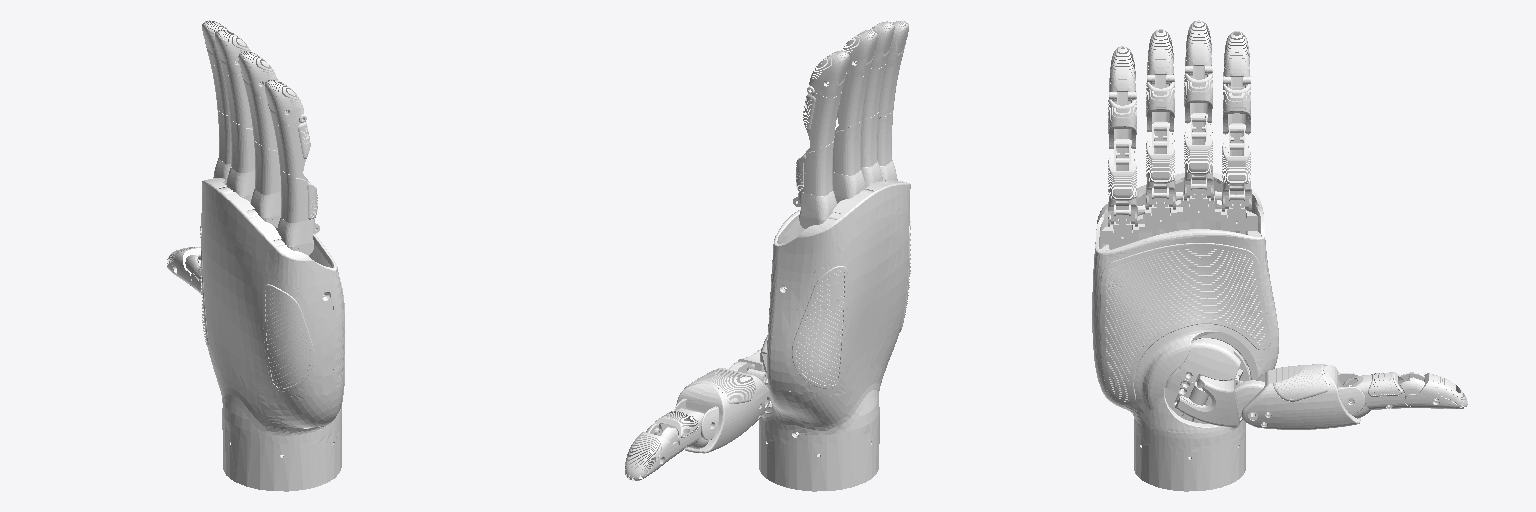
--- Facts derived from the render (not from the file) ---
Views: 3 orthographic renders of the robot side by side, from view 1: azimuth 30°, elevation 25°; view 2: azimuth 150°, elevation 25°; view 3: azimuth 270°, elevation 25°.
Model linker_l20_right_v9.0_urdf with 22 links and 21 joints (21 revolute), rooted at base_link, posed every joint at zero.
Links seen in each view (by area): view 1: base_link, pinky_proximal, ring_proximal, middle_proximal, pinky_middle, pinky_distal, ring_distal, ring_middle, middle_distal, middle_middle, thumb_distal, index_proximal (+2 smaller); view 2: base_link, thumb_metacarpals, index_proximal, middle_proximal, thumb_distal, index_middle, index_distal, thumb_proximal, middle_middle, ring_proximal, middle_distal, pinky_proximal (+4 smaller); view 3: base_link, thumb_metacarpals, thumb_metacarpals_base1, index_proximal, ring_proximal, middle_proximal, pinky_proximal, thumb_metacarpals_base2, thumb_distal, thumb_proximal, middle_middle, pinky_middle (+6 smaller).
Boxes of the visible links, bbox=[...] form: base_link: bbox=[200, 178, 344, 491]; pinky_proximal: bbox=[277, 169, 319, 255]; ring_proximal: bbox=[251, 141, 280, 227]; middle_proximal: bbox=[226, 119, 254, 203]; pinky_middle: bbox=[273, 114, 310, 177]; pinky_distal: bbox=[264, 80, 303, 125]; ring_distal: bbox=[238, 51, 277, 97]; ring_middle: bbox=[246, 92, 276, 149]; middle_distal: bbox=[215, 30, 250, 75]; middle_middle: bbox=[223, 72, 251, 127]; thumb_distal: bbox=[167, 247, 200, 285]; index_proximal: bbox=[213, 109, 231, 184]; base_link: bbox=[759, 180, 910, 491]; thumb_metacarpals: bbox=[674, 361, 770, 453]; index_proximal: bbox=[793, 141, 836, 228]; middle_proximal: bbox=[833, 121, 865, 203]; thumb_distal: bbox=[625, 424, 679, 480]; index_middle: bbox=[803, 86, 841, 150]; index_distal: bbox=[809, 50, 849, 97]; thumb_proximal: bbox=[654, 408, 708, 456]; middle_middle: bbox=[837, 72, 869, 129]; ring_proximal: bbox=[861, 112, 882, 187]; middle_distal: bbox=[842, 30, 877, 76]; pinky_proximal: bbox=[877, 110, 897, 180]; base_link: bbox=[1092, 173, 1278, 491]; thumb_metacarpals: bbox=[1235, 364, 1364, 429]; thumb_metacarpals_base1: bbox=[1165, 338, 1249, 423]; index_proximal: bbox=[1222, 123, 1251, 211]; ring_proximal: bbox=[1146, 121, 1175, 209]; middle_proximal: bbox=[1184, 113, 1213, 200]; pinky_proximal: bbox=[1108, 139, 1137, 226]; thumb_metacarpals_base2: bbox=[1175, 376, 1242, 426]; thumb_distal: bbox=[1400, 372, 1467, 408]; thumb_proximal: bbox=[1343, 372, 1411, 418]; middle_middle: bbox=[1184, 66, 1212, 122]; pinky_middle: bbox=[1108, 92, 1136, 148].
Size in the robot's own frame: 0.0766 by 0.2132 by 0.2634 metres.
Meshes: 22 distinct files referenced, 22 mesh visuals loaded (22 binary STL).

URDF robot description (linker_l20_right_v9.0_urdf):
<?xml version="1.0" encoding="utf-8"?>
<!-- This URDF was automatically created by SolidWorks to URDF Exporter! Originally created by Stephen Brawner ([email redacted]) 
     Commit Version: 1.6.0-4-g7f85cfe  Build Version: 1.6.7995.38578
     For more information, please see http://wiki.ros.org/sw_urdf_exporter -->
<robot
  name="linker_l20_right_v9.0_urdf">
  <link
    name="base_link">
    <inertial>
      <origin
        xyz="-0.011620261826289 -0.00274408052916145 0.0887470796714767"
        rpy="0 0 0" />
      <mass
        value="0.11937688599385" />
      <inertia
        ixx="0.000281631012191348"
        ixy="-8.32650755459043E-07"
        ixz="1.21226290989181E-05"
        iyy="0.000193306068615882"
        iyz="-4.50732810047053E-07"
        izz="0.000103641849373219" />
    </inertial>
    <visual>
      <origin
        xyz="0 0 0"
        rpy="0 0 0" />
      <geometry>
        <mesh
          filename="meshes/base_link.STL" />
      </geometry>
      <material
        name="">
        <color
          rgba="1 1 1 1" />
      </material>
    </visual>
    <collision>
      <origin
        xyz="0 0 0"
        rpy="0 0 0" />
      <geometry>
        <mesh
          filename="meshes/base_link.STL" />
      </geometry>
    </collision>
  </link>
  <link
    name="pinky_metacarpals">
    <inertial>
      <origin
        xyz="0.0111783602812616 9.71805658167568E-09 0.00220159774985697"
        rpy="0 0 0" />
      <mass
        value="0.000876740424974171" />
      <inertia
        ixx="3.50685796605318E-08"
        ixy="2.37969995283725E-13"
        ixz="-5.24778032378607E-09"
        iyy="2.68809612615393E-08"
        iyz="4.22813805139068E-14"
        izz="4.23561171499408E-08" />
    </inertial>
    <visual>
      <origin
        xyz="0 0 0"
        rpy="0 0 0" />
      <geometry>
        <mesh
          filename="meshes/pinky_metacarpals.STL" />
      </geometry>
      <material
        name="">
        <color
          rgba="1 1 1 1" />
      </material>
    </visual>
    <collision>
      <origin
        xyz="0 0 0"
        rpy="0 0 0" />
      <geometry>
        <mesh
          filename="meshes/pinky_metacarpals.STL" />
      </geometry>
    </collision>
  </link>
  <joint
    name="pinky_mcp_roll"
    type="revolute">
    <origin
      xyz="-0.028575599600215 -0.0381024421136991 0.150312739930038"
      rpy="0 0 0" />
    <parent
      link="base_link" />
    <child
      link="pinky_metacarpals" />
    <axis
      xyz="0.999999999998204 0 0" />
    <limit
      lower="-0.17"
      upper="0.17"
      effort="1"
      velocity="1" />
  </joint>
  <link
    name="pinky_proximal">
    <inertial>
      <origin
        xyz="-0.00112895839994493 -3.79145600554187E-06 0.0228398814721952"
        rpy="0 0 0" />
      <mass
        value="0.00451760212331234" />
      <inertia
        ixx="6.69993733698809E-07"
        ixy="-1.01449716218779E-11"
        ixz="2.60703311997585E-08"
        iyy="6.78893091787921E-07"
        iyz="-1.54607175246649E-10"
        izz="1.37491573213612E-07" />
    </inertial>
    <visual>
      <origin
        xyz="0 0 0"
        rpy="0 0 0" />
      <geometry>
        <mesh
          filename="meshes/pinky_proximal.STL" />
      </geometry>
      <material
        name="">
        <color
          rgba="1 1 1 1" />
      </material>
    </visual>
    <collision>
      <origin
        xyz="0 0 0"
        rpy="0 0 0" />
      <geometry>
        <mesh
          filename="meshes/pinky_proximal.STL" />
      </geometry>
    </collision>
  </link>
  <joint
    name="pinky_mcp_pitch"
    type="revolute">
    <origin
      xyz="0.0166748095648401 0 0"
      rpy="0 0 0" />
    <parent
      link="pinky_metacarpals" />
    <child
      link="pinky_proximal" />
    <axis
      xyz="0 1 0" />
    <limit
      lower="0"
      upper="1.4"
      effort="1"
      velocity="1" />
  </joint>
  <link
    name="pinky_middle">
    <inertial>
      <origin
        xyz="-0.000211169706509542 -2.59533084201458E-06 0.0168377462832341"
        rpy="0 0 0" />
      <mass
        value="0.00240726454050251" />
      <inertia
        ixx="2.37166762597919E-07"
        ixy="-8.40854168436704E-13"
        ixz="1.39313946202203E-08"
        iyy="1.83336939185043E-07"
        iyz="6.98408572116134E-13"
        izz="9.82233286360317E-08" />
    </inertial>
    <visual>
      <origin
        xyz="0 0 0"
        rpy="0 0 0" />
      <geometry>
        <mesh
          filename="meshes/pinky_middle.STL" />
      </geometry>
      <material
        name="">
        <color
          rgba="1 1 1 1" />
      </material>
    </visual>
    <collision>
      <origin
        xyz="0 0 0"
        rpy="0 0 0" />
      <geometry>
        <mesh
          filename="meshes/pinky_middle.STL" />
      </geometry>
    </collision>
  </link>
  <joint
    name="pinky_pip"
    type="revolute">
    <origin
      xyz="-0.00419455244191127 1.32099958100595E-05 0.0448194355633776"
      rpy="0 0 0" />
    <parent
      link="pinky_proximal" />
    <child
      link="pinky_middle" />
    <axis
      xyz="0 1 0" />
    <limit
      lower="0"
      upper="1.57"
      effort="1"
      velocity="1" />
  </joint>
  <link
    name="pinky_distal">
    <inertial>
      <origin
        xyz="-0.00807029340145454 -1.93501202306046E-05 0.00803089258129761"
        rpy="0 0 0" />
      <mass
        value="0.00337425966640625" />
      <inertia
        ixx="1.62072520517533E-07"
        ixy="1.01331520983936E-10"
        ixz="5.9624392404289E-08"
        iyy="1.79093091317115E-07"
        iyz="-1.04733372031767E-10"
        izz="1.32918893464252E-07" />
    </inertial>
    <visual>
      <origin
        xyz="0 0 0"
        rpy="0 0 0" />
      <geometry>
        <mesh
          filename="meshes/pinky_distal.STL" />
      </geometry>
      <material
        name="">
        <color
          rgba="1 1 1 1" />
      </material>
    </visual>
    <collision>
      <origin
        xyz="0 0 0"
        rpy="0 0 0" />
      <geometry>
        <mesh
          filename="meshes/pinky_distal.STL" />
      </geometry>
    </collision>
  </link>
  <joint
    name="pinky_dip"
    type="revolute">
    <origin
      xyz="0.00275561956448663 0 0.0317024252339038"
      rpy="0 0 0" />
    <parent
      link="pinky_middle" />
    <child
      link="pinky_distal" />
    <axis
      xyz="0 1 0" />
    <limit
      lower="0"
      upper="1.4"
      effort="1"
      velocity="1" />
    <mimic
      joint="pinky_pip"
      multiplier="0.8917"
      offset="0" />
  </joint>
  <link
    name="ring_metacarpals">
    <inertial>
      <origin
        xyz="0.0111783602812615 -5.44586388928625E-07 0.00220163628642245"
        rpy="0 0 0" />
      <mass
        value="0.000876740424974176" />
      <inertia
        ixx="3.5068579660532E-08"
        ixy="2.37969995276923E-13"
        ixz="-5.24778032378599E-09"
        iyy="2.68809612615393E-08"
        iyz="4.22813803938397E-14"
        izz="4.23561171499408E-08" />
    </inertial>
    <visual>
      <origin
        xyz="0 0 0"
        rpy="0 0 0" />
      <geometry>
        <mesh
          filename="meshes/ring_metacarpals.STL" />
      </geometry>
      <material
        name="">
        <color
          rgba="1 1 1 1" />
      </material>
    </visual>
    <collision>
      <origin
        xyz="0 0 0"
        rpy="0 0 0" />
      <geometry>
        <mesh
          filename="meshes/ring_metacarpals.STL" />
      </geometry>
    </collision>
  </link>
  <joint
    name="ring_mcp_roll"
    type="revolute">
    <origin
      xyz="-0.0321993698689908 -0.0165018864843229 0.159311421874683"
      rpy="0 0 0" />
    <parent
      link="base_link" />
    <child
      link="ring_metacarpals" />
    <axis
      xyz="0.999999999998204 0 0" />
    <limit
      lower="-0.17"
      upper="0.17"
      effort="1"
      velocity="1" />
  </joint>
  <link
    name="ring_proximal">
    <inertial>
      <origin
        xyz="-0.00955921558507311 -1.70016755791369E-05 0.0148398984163987"
        rpy="0 0 0" />
      <mass
        value="0.00451760195794046" />
      <inertia
        ixx="6.69993722821465E-07"
        ixy="-1.01474386915083E-11"
        ixz="2.60703333666604E-08"
        iyy="6.78893086540266E-07"
        iyz="-1.54612724483144E-10"
        izz="1.37491565753842E-07" />
    </inertial>
    <visual>
      <origin
        xyz="0 0 0"
        rpy="0 0 0" />
      <geometry>
        <mesh
          filename="meshes/ring_proximal.STL" />
      </geometry>
      <material
        name="">
        <color
          rgba="1 1 1 1" />
      </material>
    </visual>
    <collision>
      <origin
        xyz="0 0 0"
        rpy="0 0 0" />
      <geometry>
        <mesh
          filename="meshes/ring_proximal.STL" />
      </geometry>
    </collision>
  </link>
  <joint
    name="ring_mcp_pitch"
    type="revolute">
    <origin
      xyz="0.0251050665600563 1.26716622367851E-05 0.00800002169746956"
      rpy="0 0 0" />
    <parent
      link="ring_metacarpals" />
    <child
      link="ring_proximal" />
    <axis
      xyz="0 1 0" />
    <limit
      lower="0"
      upper="1.4"
      effort="1"
      velocity="1" />
  </joint>
  <link
    name="ring_middle">
    <inertial>
      <origin
        xyz="-0.000211169680034644 -2.59524552165269E-06 0.0168377464520879"
        rpy="0 0 0" />
      <mass
        value="0.00240726457456344" />
      <inertia
        ixx="2.37166764775183E-07"
        ixy="-8.42216406451178E-13"
        ixz="1.3931392891153E-08"
        iyy="1.83336942110529E-07"
        iyz="6.95953123215741E-13"
        izz="9.82233292198863E-08" />
    </inertial>
    <visual>
      <origin
        xyz="0 0 0"
        rpy="0 0 0" />
      <geometry>
        <mesh
          filename="meshes/ring_middle.STL" />
      </geometry>
      <material
        name="">
        <color
          rgba="1 1 1 1" />
      </material>
    </visual>
    <collision>
      <origin
        xyz="0 0 0"
        rpy="0 0 0" />
      <geometry>
        <mesh
          filename="meshes/ring_middle.STL" />
      </geometry>
    </collision>
  </link>
  <joint
    name="ring_pip"
    type="revolute">
    <origin
      xyz="-0.0126248094619703 0 0.0368194524036704"
      rpy="0 0 0" />
    <parent
      link="ring_proximal" />
    <child
      link="ring_middle" />
    <axis
      xyz="0 1 0" />
    <limit
      lower="0"
      upper="1.57"
      effort="1"
      velocity="1" />
  </joint>
  <link
    name="ring_distal">
    <inertial>
      <origin
        xyz="-0.00807029340156035 -1.93501210593028E-05 0.00803089181817565"
        rpy="0 0 0" />
      <mass
        value="0.00337425966600315" />
      <inertia
        ixx="1.62072520497108E-07"
        ixy="1.01331470012741E-10"
        ixz="5.96243924070343E-08"
        iyy="1.79093091237455E-07"
        iyz="-1.04733393393394E-10"
        izz="1.32918893476288E-07" />
    </inertial>
    <visual>
      <origin
        xyz="0 0 0"
        rpy="0 0 0" />
      <geometry>
        <mesh
          filename="meshes/ring_distal.STL" />
      </geometry>
      <material
        name="">
        <color
          rgba="1 1 1 1" />
      </material>
    </visual>
    <collision>
      <origin
        xyz="0 0 0"
        rpy="0 0 0" />
      <geometry>
        <mesh
          filename="meshes/ring_distal.STL" />
      </geometry>
    </collision>
  </link>
  <joint
    name="ring_dip"
    type="revolute">
    <origin
      xyz="0.00275561956405355 0 0.0317024252327154"
      rpy="0 0 0" />
    <parent
      link="ring_middle" />
    <child
      link="ring_distal" />
    <axis
      xyz="0 1 0" />
    <limit
      lower="0"
      upper="1.4"
      effort="1"
      velocity="1" />
    <mimic
      joint="ring_pip"
      multiplier="0.8917"
      offset="0" />
  </joint>
  <link
    name="middle_metacarpals">
    <inertial>
      <origin
        xyz="0.0111783602812616 -5.44586388762092E-07 0.0022016362864224"
        rpy="0 0 0" />
      <mass
        value="0.000876740424974166" />
      <inertia
        ixx="3.50685796605316E-08"
        ixy="2.37969995601852E-13"
        ixz="-5.24778032378604E-09"
        iyy="2.68809612615391E-08"
        iyz="4.22813799331105E-14"
        izz="4.23561171499406E-08" />
    </inertial>
    <visual>
      <origin
        xyz="0 0 0"
        rpy="0 0 0" />
      <geometry>
        <mesh
          filename="meshes/middle_metacarpals.STL" />
      </geometry>
      <material
        name="">
        <color
          rgba="1 1 1 1" />
      </material>
    </visual>
    <collision>
      <origin
        xyz="0 0 0"
        rpy="0 0 0" />
      <geometry>
        <mesh
          filename="meshes/middle_metacarpals.STL" />
      </geometry>
    </collision>
  </link>
  <joint
    name="middle_mcp_roll"
    type="revolute">
    <origin
      xyz="-0.0345042006792679 0.00509811417717426 0.163804307612682"
      rpy="0 0 0" />
    <parent
      link="base_link" />
    <child
      link="middle_metacarpals" />
    <axis
      xyz="0.999999999998204 0 0" />
    <limit
      lower="-0.17"
      upper="0.17"
      effort="1"
      velocity="1" />
  </joint>
  <link
    name="middle_proximal">
    <inertial>
      <origin
        xyz="-0.0095592154289316 -1.70014495338155E-05 0.0148398983134099"
        rpy="0 0 0" />
      <mass
        value="0.00451760211910452" />
      <inertia
        ixx="6.69993733596981E-07"
        ixy="-1.01450009530961E-11"
        ixz="2.60703311569988E-08"
        iyy="6.78893091681914E-07"
        iyz="-1.54607004511646E-10"
        izz="1.37491573176307E-07" />
    </inertial>
    <visual>
      <origin
        xyz="0 0 0"
        rpy="0 0 0" />
      <geometry>
        <mesh
          filename="meshes/middle_proximal.STL" />
      </geometry>
      <material
        name="">
        <color
          rgba="1 1 1 1" />
      </material>
    </visual>
    <collision>
      <origin
        xyz="0 0 0"
        rpy="0 0 0" />
      <geometry>
        <mesh
          filename="meshes/middle_proximal.STL" />
      </geometry>
    </collision>
  </link>
  <joint
    name="middle_mcp_pitch"
    type="revolute">
    <origin
      xyz="0.0251050665601614 1.26716622368406E-05 0.00800002169696733"
      rpy="0 0 0" />
    <parent
      link="middle_metacarpals" />
    <child
      link="middle_proximal" />
    <axis
      xyz="0 1 0" />
    <limit
      lower="0"
      upper="1.4"
      effort="1"
      velocity="1" />
  </joint>
  <link
    name="middle_middle">
    <inertial>
      <origin
        xyz="-0.000211169788266033 -2.59530434057464E-06 0.0168377462566504"
        rpy="0 0 0" />
      <mass
        value="0.00240726449346529" />
      <inertia
        ixx="2.37166758883316E-07"
        ixy="-8.41669264093796E-13"
        ixz="1.39313950743123E-08"
        iyy="1.83336936162719E-07"
        iyz="6.97202665239409E-13"
        izz="9.82233268582599E-08" />
    </inertial>
    <visual>
      <origin
        xyz="0 0 0"
        rpy="0 0 0" />
      <geometry>
        <mesh
          filename="meshes/middle_middle.STL" />
      </geometry>
      <material
        name="">
        <color
          rgba="1 1 1 1" />
      </material>
    </visual>
    <collision>
      <origin
        xyz="0 0 0"
        rpy="0 0 0" />
      <geometry>
        <mesh
          filename="meshes/middle_middle.STL" />
      </geometry>
    </collision>
  </link>
  <joint
    name="middle_pip"
    type="revolute">
    <origin
      xyz="-0.0126248094622216 0 0.0368194524061594"
      rpy="0 0 0" />
    <parent
      link="middle_proximal" />
    <child
      link="middle_middle" />
    <axis
      xyz="0 1 0" />
    <limit
      lower="0"
      upper="1.57"
      effort="1"
      velocity="1" />
  </joint>
  <link
    name="middle_distal">
    <inertial>
      <origin
        xyz="-0.00807029340000556 -1.93501205603408E-05 0.00803089258473687"
        rpy="0 0 0" />
      <mass
        value="0.00337425966615046" />
      <inertia
        ixx="1.62072520444378E-07"
        ixy="1.01331478760051E-10"
        ixz="5.96243924035914E-08"
        iyy="1.79093091275449E-07"
        iyz="-1.04733397727201E-10"
        izz="1.32918893459179E-07" />
    </inertial>
    <visual>
      <origin
        xyz="0 0 0"
        rpy="0 0 0" />
      <geometry>
        <mesh
          filename="meshes/middle_distal.STL" />
      </geometry>
      <material
        name="">
        <color
          rgba="1 1 1 1" />
      </material>
    </visual>
    <collision>
      <origin
        xyz="0 0 0"
        rpy="0 0 0" />
      <geometry>
        <mesh
          filename="meshes/middle_distal.STL" />
      </geometry>
    </collision>
  </link>
  <joint
    name="middle_dip"
    type="revolute">
    <origin
      xyz="0.00275561956368908 0 0.031702425228504"
      rpy="0 0 0" />
    <parent
      link="middle_middle" />
    <child
      link="middle_distal" />
    <axis
      xyz="0 1 0" />
    <limit
      lower="0"
      upper="1.4"
      effort="1"
      velocity="1" />
    <mimic
      joint="middle_pip"
      multiplier="0.8917"
      offset="0" />
  </joint>
  <link
    name="index_metacarpals">
    <inertial>
      <origin
        xyz="0.0111783602812616 -5.44586388873114E-07 0.00220163628642246"
        rpy="0 0 0" />
      <mass
        value="0.000876740424974179" />
      <inertia
        ixx="3.50685796605321E-08"
        ixy="2.37969995333639E-13"
        ixz="-5.24778032378605E-09"
        iyy="2.68809612615395E-08"
        iyz="4.22813804036855E-14"
        izz="4.2356117149941E-08" />
    </inertial>
    <visual>
      <origin
        xyz="0 0 0"
        rpy="0 0 0" />
      <geometry>
        <mesh
          filename="meshes/index_metacarpals.STL" />
      </geometry>
      <material
        name="">
        <color
          rgba="1 1 1 1" />
      </material>
    </visual>
    <collision>
      <origin
        xyz="0 0 0"
        rpy="0 0 0" />
      <geometry>
        <mesh
          filename="meshes/index_metacarpals.STL" />
      </geometry>
    </collision>
  </link>
  <joint
    name="index_mcp_roll"
    type="revolute">
    <origin
      xyz="-0.0297703583048348 0.026698113515616 0.159311418025823"
      rpy="0 0 0" />
    <parent
      link="base_link" />
    <child
      link="index_metacarpals" />
    <axis
      xyz="0.999999999998204 0 0" />
    <limit
      lower="-0.17"
      upper="0.17"
      effort="1"
      velocity="1" />
  </joint>
  <link
    name="index_proximal">
    <inertial>
      <origin
        xyz="-0.00112895840999541 -3.79145382717327E-06 0.0228398814738125"
        rpy="0 0 0" />
      <mass
        value="0.00451760211825835" />
      <inertia
        ixx="6.69993733567589E-07"
        ixy="-1.01449915953169E-11"
        ixz="2.6070331151262E-08"
        iyy="6.7889309165604E-07"
        iyz="-1.54607144938343E-10"
        izz="1.37491573165547E-07" />
    </inertial>
    <visual>
      <origin
        xyz="0 0 0"
        rpy="0 0 0" />
      <geometry>
        <mesh
          filename="meshes/index_proximal.STL" />
      </geometry>
      <material
        name="">
        <color
          rgba="1 1 1 1" />
      </material>
    </visual>
    <collision>
      <origin
        xyz="0 0 0"
        rpy="0 0 0" />
      <geometry>
        <mesh
          filename="meshes/index_proximal.STL" />
      </geometry>
    </collision>
  </link>
  <joint
    name="index_mcp_pitch"
    type="revolute">
    <origin
      xyz="0.0166748095646496 0 0"
      rpy="0 0 0" />
    <parent
      link="index_metacarpals" />
    <child
      link="index_proximal" />
    <axis
      xyz="0 1 0" />
    <limit
      lower="0"
      upper="1.4"
      effort="1"
      velocity="1" />
  </joint>
  <link
    name="index_middle">
    <inertial>
      <origin
        xyz="-0.000211169838065489 -2.5954094765579E-06 0.0168377460160872"
        rpy="0 0 0" />
      <mass
        value="0.00240726447718958" />
      <inertia
        ixx="2.37166756819848E-07"
        ixy="-8.40334954033228E-13"
        ixz="1.39313968245868E-08"
        iyy="1.8333693296862E-07"
        iyz="6.99644799463844E-13"
        izz="9.82233270278881E-08" />
    </inertial>
    <visual>
      <origin
        xyz="0 0 0"
        rpy="0 0 0" />
      <geometry>
        <mesh
          filename="meshes/index_middle.STL" />
      </geometry>
      <material
        name="">
        <color
          rgba="1 1 1 1" />
      </material>
    </visual>
    <collision>
      <origin
        xyz="0 0 0"
        rpy="0 0 0" />
      <geometry>
        <mesh
          filename="meshes/index_middle.STL" />
      </geometry>
    </collision>
  </link>
  <joint
    name="index_pip"
    type="revolute">
    <origin
      xyz="-0.00419455239160021 1.32099983796707E-05 0.0448194355727413"
      rpy="0 0 0" />
    <parent
      link="index_proximal" />
    <child
      link="index_middle" />
    <axis
      xyz="0 1 0" />
    <limit
      lower="0"
      upper="1.57"
      effort="1"
      velocity="1" />
  </joint>
  <link
    name="index_distal">
    <inertial>
      <origin
        xyz="-0.00807029340029854 -1.93501205141555E-05 0.00803089258454236"
        rpy="0 0 0" />
      <mass
        value="0.00337425966618635" />
      <inertia
        ixx="1.6207252045105E-07"
        ixy="1.01331477160975E-10"
        ixz="5.96243924026828E-08"
        iyy="1.79093091271022E-07"
        iyz="-1.04733396885457E-10"
        izz="1.32918893461444E-07" />
    </inertial>
    <visual>
      <origin
        xyz="0 0 0"
        rpy="0 0 0" />
      <geometry>
        <mesh
          filename="meshes/index_distal.STL" />
      </geometry>
      <material
        name="">
        <color
          rgba="1 1 1 1" />
      </material>
    </visual>
    <collision>
      <origin
        xyz="0 0 0"
        rpy="0 0 0" />
      <geometry>
        <mesh
          filename="meshes/index_distal.STL" />
      </geometry>
    </collision>
  </link>
  <joint
    name="index_dip"
    type="revolute">
    <origin
      xyz="0.00275561951363186 0 0.0317024252223218"
      rpy="0 0 0" />
    <parent
      link="index_middle" />
    <child
      link="index_distal" />
    <axis
      xyz="0 1 0" />
    <limit
      lower="0"
      upper="1.4"
      effort="1"
      velocity="1" />
    <mimic
      joint="index_pip"
      multiplier="0.8917"
      offset="0" />
  </joint>
  <link
    name="thumb_metacarpals_base1">
    <inertial>
      <origin
        xyz="0.00225238137571548 0.0106281730889677 0.00386563507860038"
        rpy="0 0 0" />
      <mass
        value="0.0123205476694916" />
      <inertia
        ixx="3.0840872491739E-06"
        ixy="7.90141615431144E-08"
        ixz="-5.00722594467121E-08"
        iyy="4.73446694039298E-06"
        iyz="1.89380820616155E-07"
        izz="2.03286521827113E-06" />
    </inertial>
    <visual>
      <origin
        xyz="0 0 0"
        rpy="0 0 0" />
      <geometry>
        <mesh
          filename="meshes/thumb_metacarpals_base1.STL" />
      </geometry>
      <material
        name="">
        <color
          rgba="1 1 1 1" />
      </material>
    </visual>
    <collision>
      <origin
        xyz="0 0 0"
        rpy="0 0 0" />
      <geometry>
        <mesh
          filename="meshes/thumb_metacarpals_base1.STL" />
      </geometry>
    </collision>
  </link>
  <joint
    name="thumb_cmc_yaw"
    type="revolute">
    <origin
      xyz="0.0039847 0.0050818 0.057392"
      rpy="3.1416 0 1.5708" />
    <parent
      link="base_link" />
    <child
      link="thumb_metacarpals_base1" />
    <axis
      xyz="0 1 0" />
    <limit
      lower="0"
      upper="1.4"
      effort="1"
      velocity="1" />
  </joint>
  <link
    name="thumb_metacarpals_base2">
    <inertial>
      <origin
        xyz="0.00119786541618824 0.00176299022707369 0.00980404243330507"
        rpy="0 0 0" />
      <mass
        value="0.00459772397289602" />
      <inertia
        ixx="7.31634903650296E-07"
        ixy="4.16930863500661E-08"
        ixz="-7.27796562010211E-08"
        iyy="5.38487447636595E-07"
        iyz="1.05405201691116E-07"
        izz="3.72564315942347E-07" />
    </inertial>
    <visual>
      <origin
        xyz="0 0 0"
        rpy="0 0 0" />
      <geometry>
        <mesh
          filename="meshes/thumb_metacarpals_base2.STL" />
      </geometry>
      <material
        name="">
        <color
          rgba="1 1 1 1" />
      </material>
    </visual>
    <collision>
      <origin
        xyz="0 0 0"
        rpy="0 0 0" />
      <geometry>
        <mesh
          filename="meshes/thumb_metacarpals_base2.STL" />
      </geometry>
    </collision>
  </link>
  <joint
    name="thumb_cmc_roll"
    type="revolute">
    <origin
      xyz="0.00078474 0.019608 0.00030872"
      rpy="1.1826 0 1.5708" />
    <parent
      link="thumb_metacarpals_base1" />
    <child
      link="thumb_metacarpals_base2" />
    <axis
      xyz="0 1 0" />
    <limit
      lower="0"
      upper="1.22"
      effort="1"
      velocity="1" />
  </joint>
  <link
    name="thumb_metacarpals">
    <inertial>en 
      <origin
        xyz="0.00549166823270433 0.00805301003186135 0.0258291613450025"
        rpy="0 0 0" />
      <mass
        value="0.0119766770700791" />
      <inertia
        ixx="4.12827715566723E-06"
        ixy="-2.09070693209702E-08"
        ixz="-1.79929143315225E-08"
        iyy="4.82188747454608E-06"
        iyz="-6.18428959857057E-08"
        izz="1.21403973338737E-06" />
    </inertial>
    <visual>
      <origin
        xyz="0 0 0"
        rpy="0 0 0" />
      <geometry>
        <mesh
          filename="meshes/thumb_metacarpals.STL" />
      </geometry>
      <material
        name="">
        <color
          rgba="1 1 1 1" />
      </material>
    </visual>
    <collision>
      <origin
        xyz="0 0 0"
        rpy="0 0 0" />
      <geometry>
        <mesh
          filename="meshes/thumb_metacarpals.STL" />
      </geometry>
    </collision>
  </link>
  <joint
    name="thumb_cmc_pitch"
    type="revolute">
    <origin
      xyz="-0.00010969 -0.0039644 0.030795"
      rpy="0 0.38815 -1.5708" />
    <parent
      link="thumb_metacarpals_base2" />
    <child
      link="thumb_metacarpals" />
    <axis
      xyz="0 1 0" />
    <limit
      lower="0"
      upper="0.79"
      effort="1"
      velocity="1" />
  </joint>
  <link
    name="thumb_proximal">
    <inertial>
      <origin
        xyz="-0.00110581154816419 0.000334168978806698 0.0128606460877002"
        rpy="0 0 0" />
      <mass
        value="0.00515934933952247" />
      <inertia
        ixx="4.56386382924756E-07"
        ixy="-1.15146110659666E-09"
        ixz="-8.11494572264421E-08"
        iyy="6.1631634624166E-07"
        iyz="-5.36276832530009E-09"
        izz="2.4690573764591E-07" />
    </inertial>
    <visual>
      <origin
        xyz="0 0 0"
        rpy="0 0 0" />
      <geometry>
        <mesh
          filename="meshes/thumb_proximal.STL" />
      </geometry>
      <material
        name="">
        <color
          rgba="1 1 1 1" />
      </material>
    </visual>
    <collision>
      <origin
        xyz="0 0 0"
        rpy="0 0 0" />
      <geometry>
        <mesh
          filename="meshes/thumb_proximal.STL" />
      </geometry>
    </collision>
  </link>
  <joint
    name="thumb_mcp"
    type="revolute">
    <origin
      xyz="0.0085786 0 0.055572"
      rpy="0 0 0" />
    <parent
      link="thumb_metacarpals" />
    <child
      link="thumb_proximal" />
    <axis
      xyz="0 1 0" />
    <limit
      lower="0"
      upper="1.05"
      effort="1"
      velocity="1" />
  </joint>
  <link
    name="thumb_distal">
    <inertial>
      <origin
        xyz="-0.00625056907004873 -0.00251546922629341 0.0132122489219003"
        rpy="0 0 0" />
      <mass
        value="0.00408969366280382" />
      <inertia
        ixx="2.36259669358736E-07"
        ixy="2.35860723267732E-09"
        ixz="6.44473102385798E-08"
        iyy="2.76662665184841E-07"
        iyz="-6.5752180911147E-09"
        izz="1.12752822786612E-07" />
    </inertial>
    <visual>
      <origin
        xyz="0 0 0"
        rpy="0 0 0" />
      <geometry>
        <mesh
          filename="meshes/thumb_distal.STL" />
      </geometry>
      <material
        name="">
        <color
          rgba="1 1 1 1" />
      </material>
    </visual>
    <collision>
      <origin
        xyz="0 0 0"
        rpy="0 0 0" />
      <geometry>
        <mesh
          filename="meshes/thumb_distal.STL" />
      </geometry>
    </collision>
  </link>
  <joint
    name="thumb_dip"
    type="revolute">
    <origin
      xyz="0.0066654 0 0.034256"
      rpy="0 0 0" />
    <parent
      link="thumb_proximal" />
    <child
      link="thumb_distal" />
    <axis
      xyz="0 1 0" />
    <limit
      lower="0"
      upper="1.22"
      effort="1"
      velocity="1" />
    <mimic
      joint="thumb_mcp"
      multiplier="1.1619"
      offset="0" />
  </joint>
</robot>
